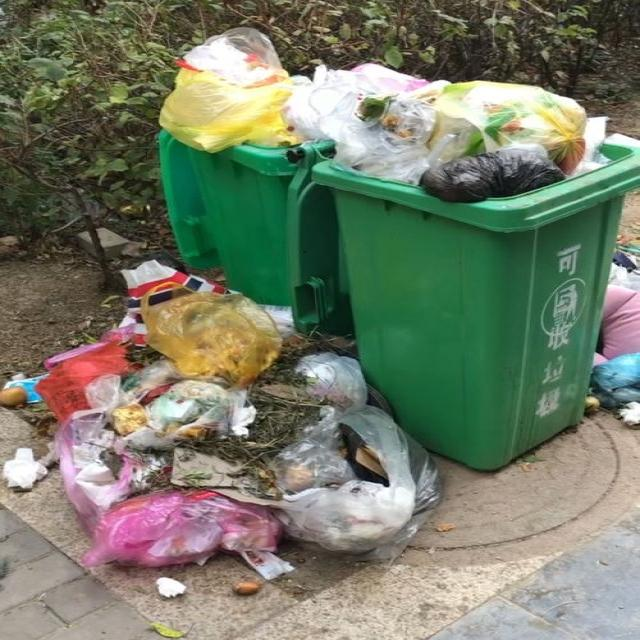garbage: (0, 258, 444, 599), (584, 243, 638, 427)
overflow: (310, 63, 638, 471), (155, 25, 351, 336)
